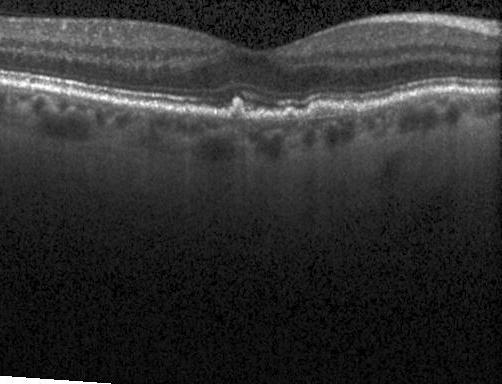retinal_drusen: (308, 105, 338, 118), (230, 102, 245, 121), (341, 104, 357, 115), (260, 114, 277, 121), (284, 111, 297, 120)
